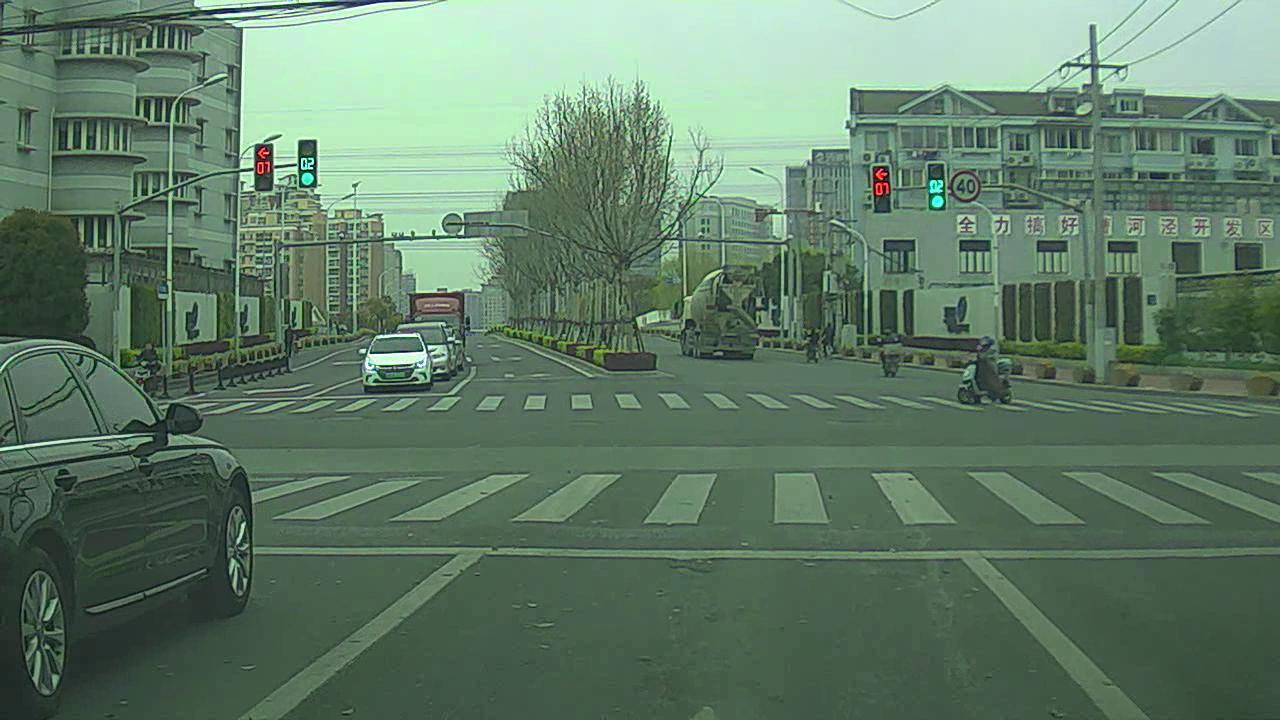traffic_light: (873, 163, 894, 215), (928, 162, 950, 211), (299, 138, 321, 187), (254, 144, 275, 189)
